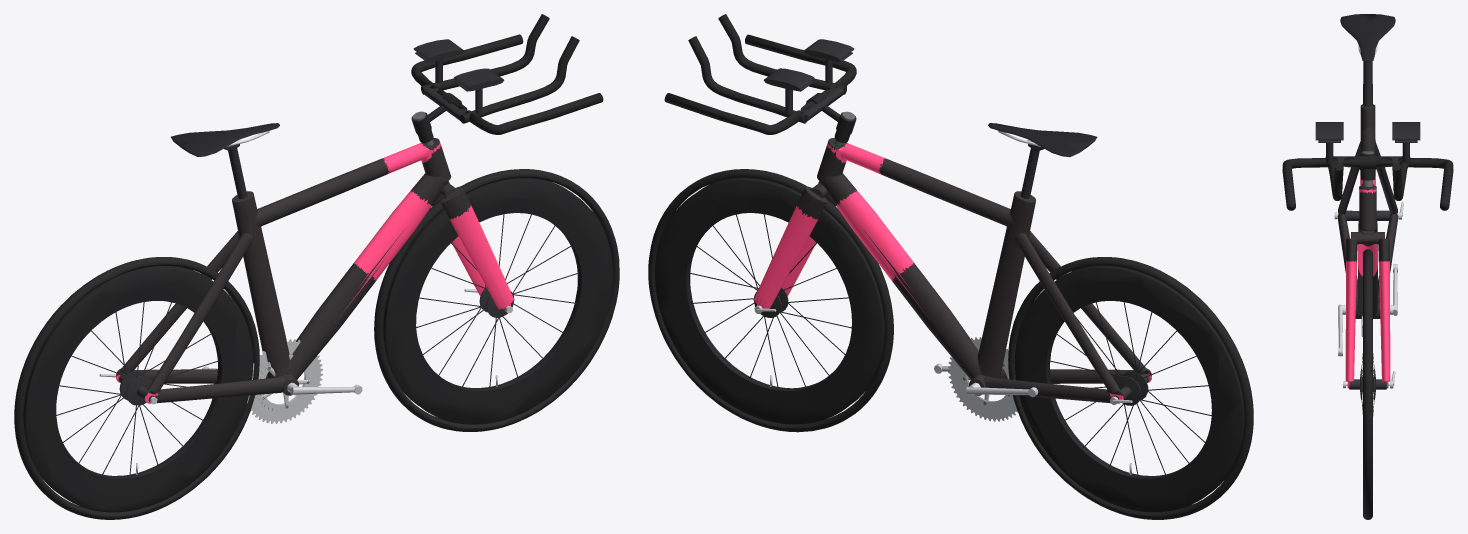
File: bike_lite.glb
3 renders of one model, left to right at view 1: azimuth 30°, elevation 25°; view 2: azimuth 150°, elevation 25°; view 3: azimuth 270°, elevation 25°, orthographic. The views are drawn at different scales.
Parts seen in each view (by area): view 1: saddle, fork, basebar, tyre_front; view 2: saddle, fork, basebar, tyre_front; view 3: fork, basebar, tyre_front, saddle.
Boxes of the visible parts, x1,y1,x2,y2 form: saddle: (23,123,612,512); fork: (116,138,513,403); basebar: (56,14,603,475); tyre_front: (14,169,619,519); saddle: (655,123,1244,512); fork: (754,138,1151,403); basebar: (664,14,1211,475); tyre_front: (648,169,1253,519); fork: (1337,104,1398,388); basebar: (1282,45,1453,415); tyre_front: (1363,84,1372,519); saddle: (1340,14,1395,62).
Size of the model in its own units: 1.66 by 1.02 by 0.4242.
5 materials, 5 textured.
